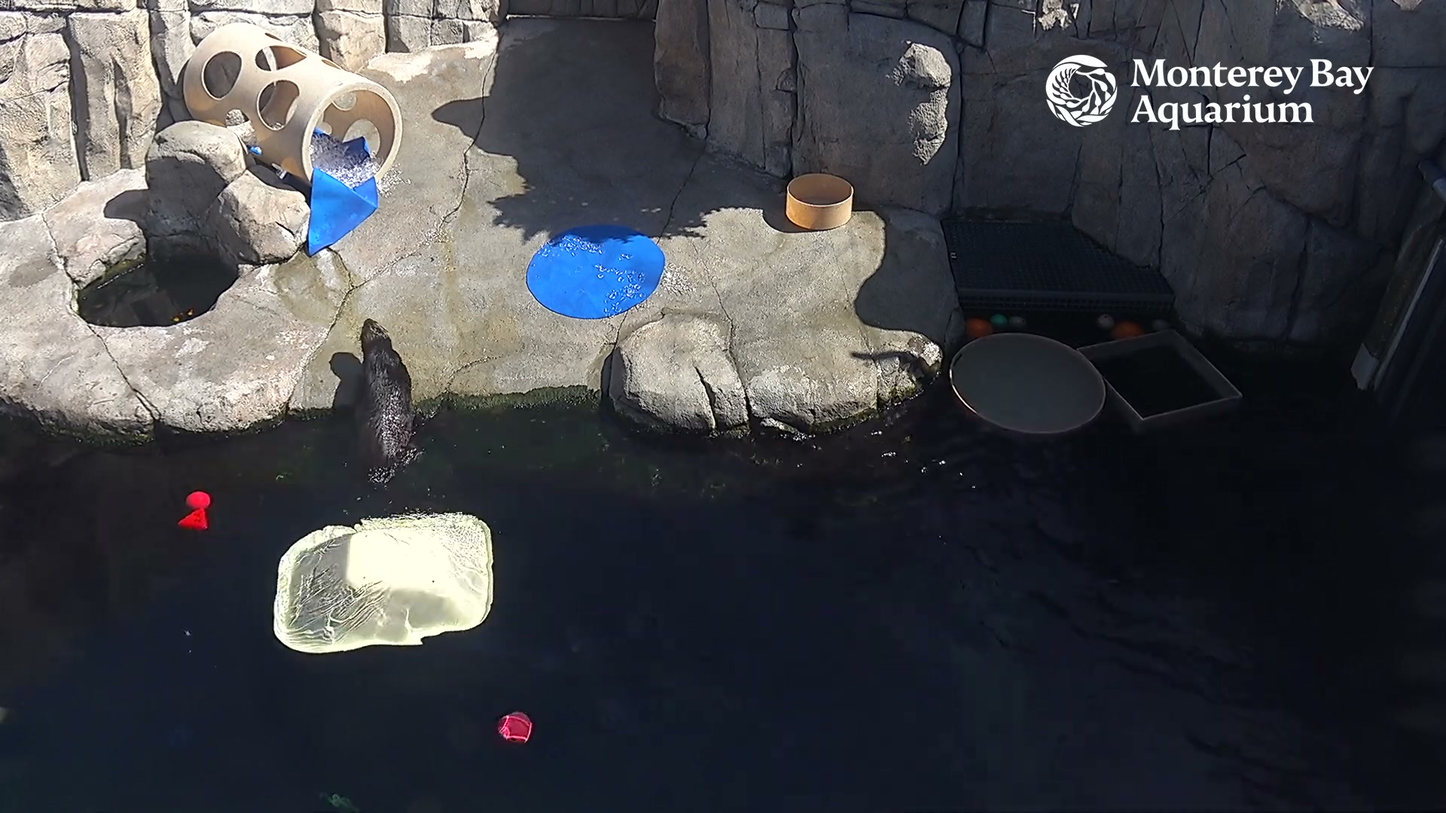Southern Sea Otter: (334, 300, 436, 492)
